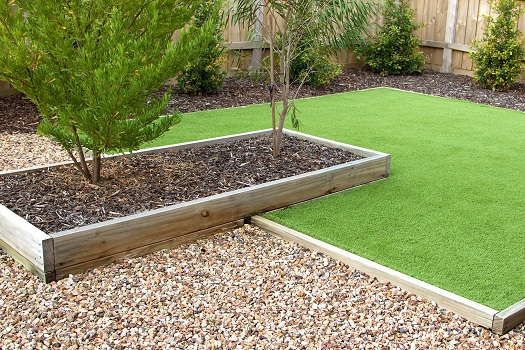dirt: (2, 129, 366, 234)
grass: (153, 88, 523, 312)
rock: (1, 224, 524, 347), (0, 129, 70, 168)
tree: (66, 139, 102, 180), (269, 94, 285, 155)
